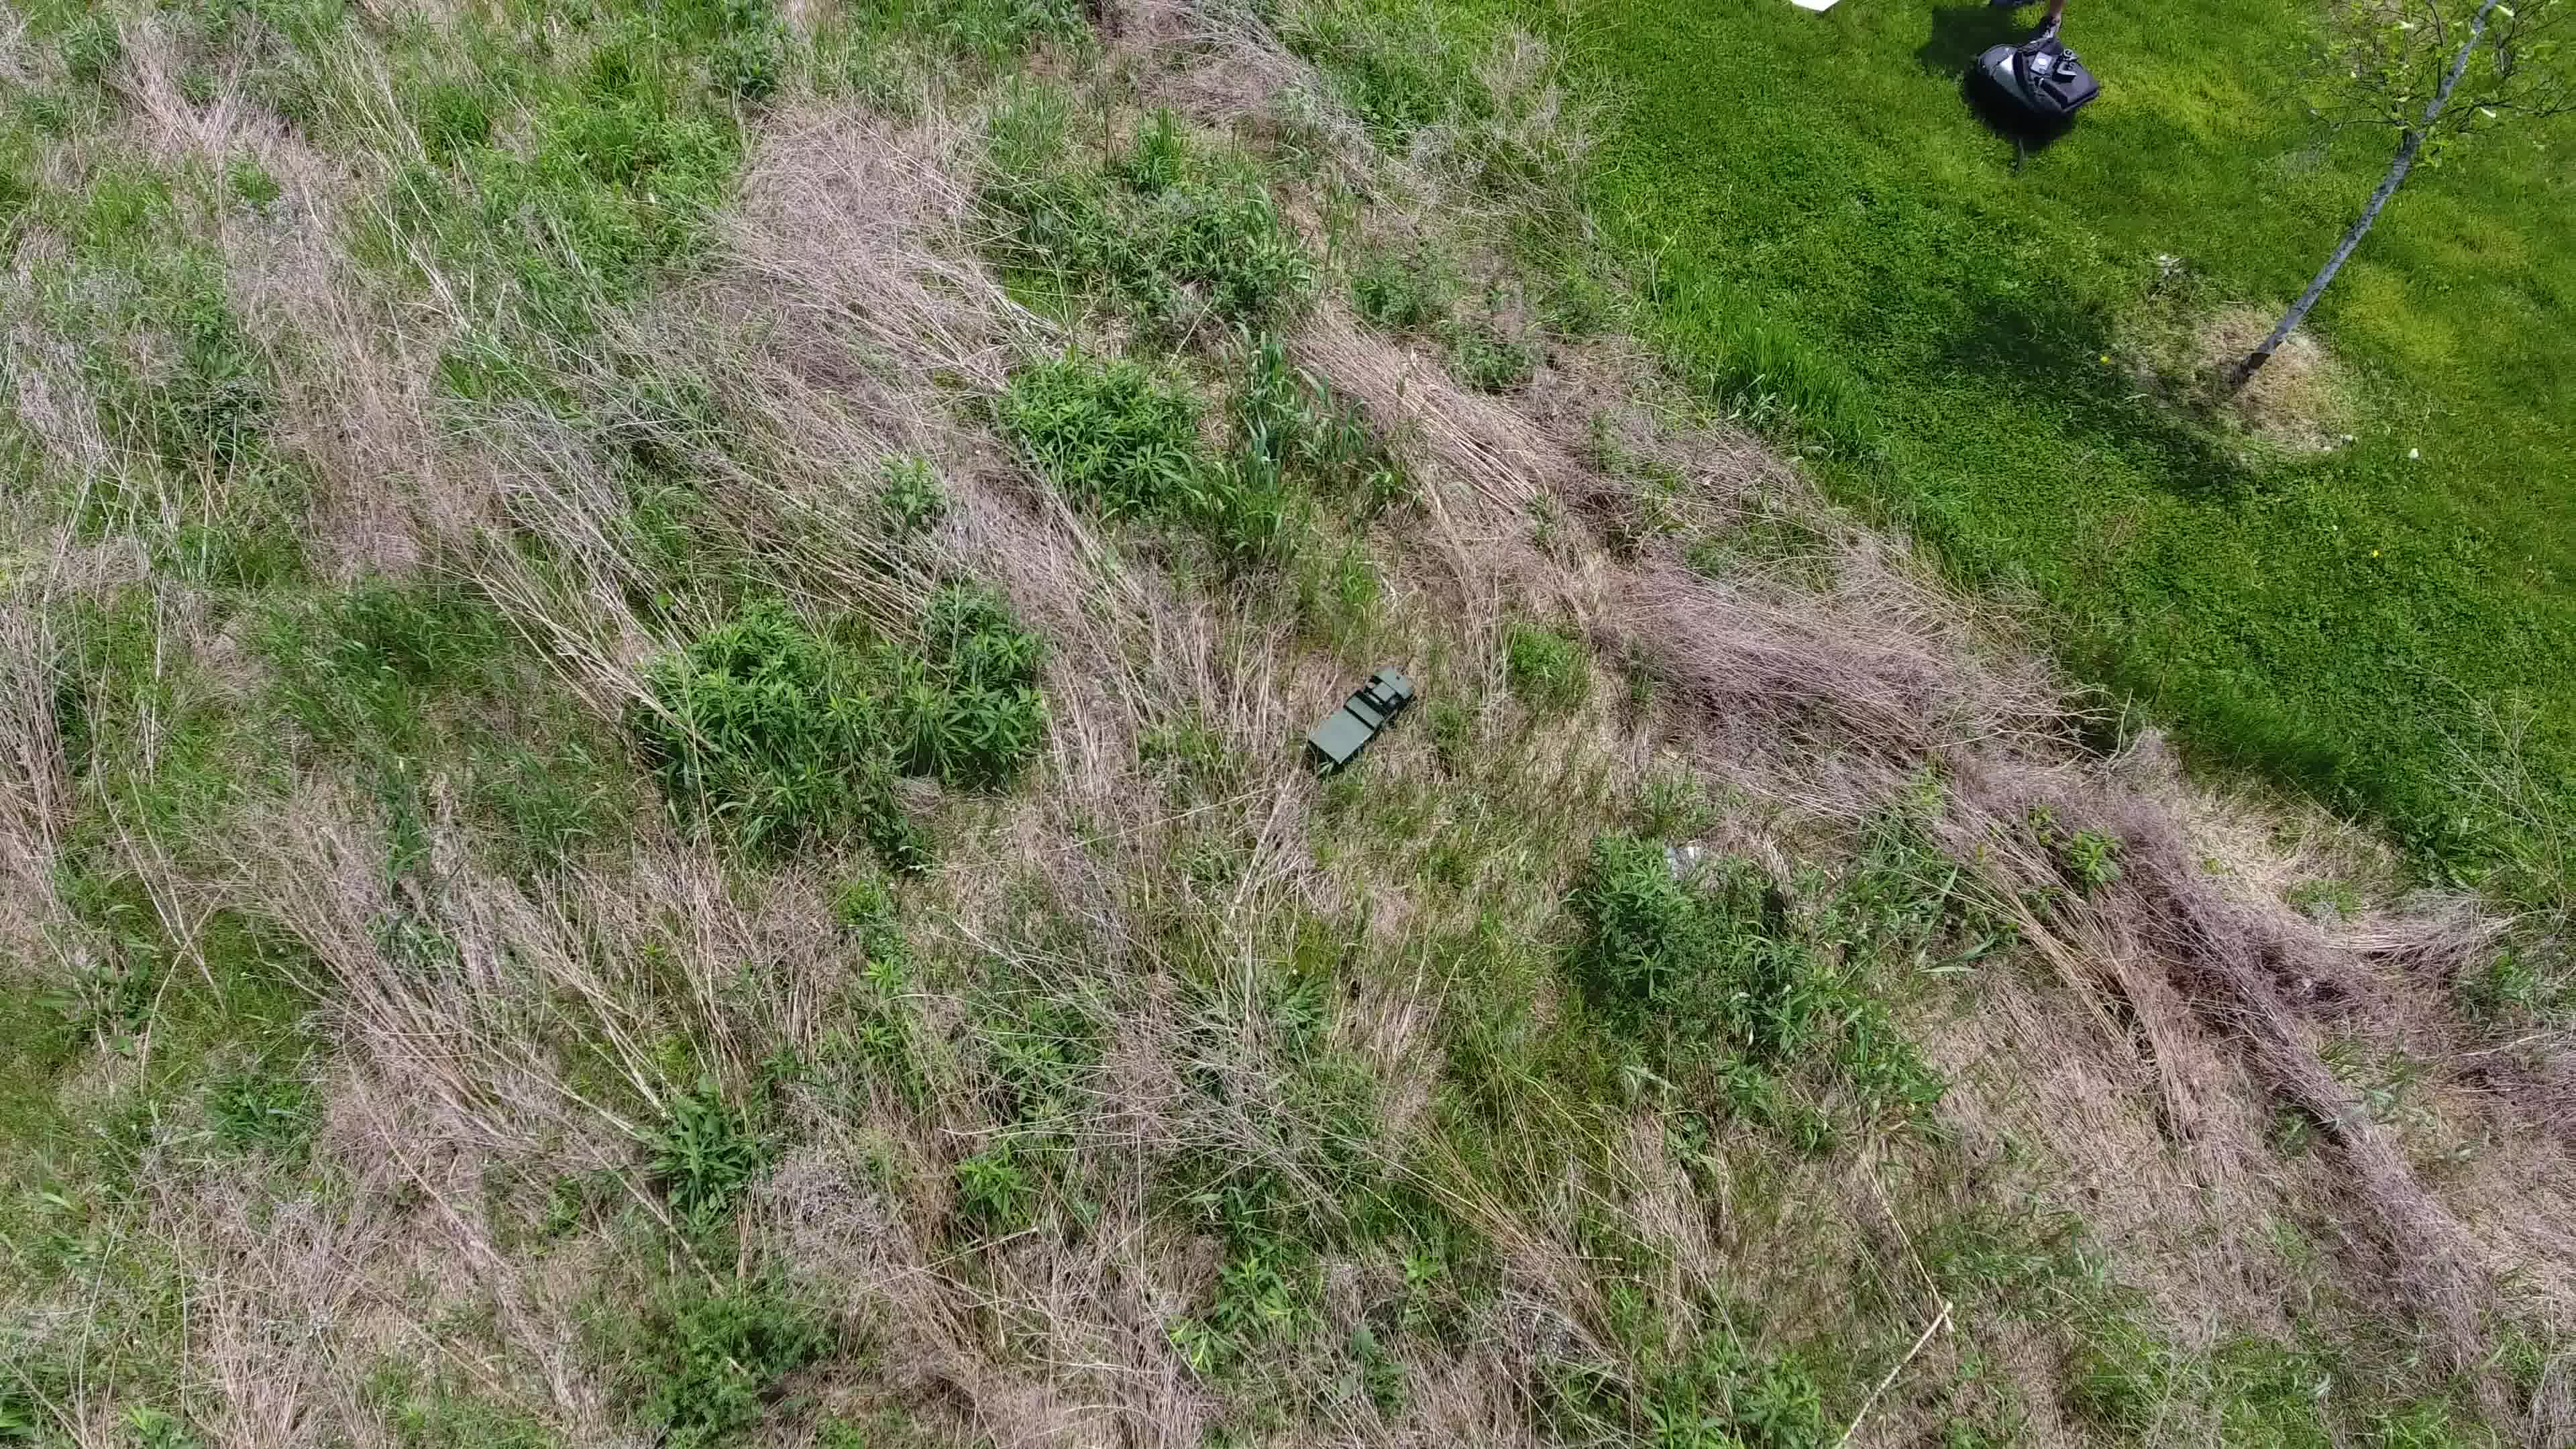transporter9: (1302, 662, 1419, 771)
